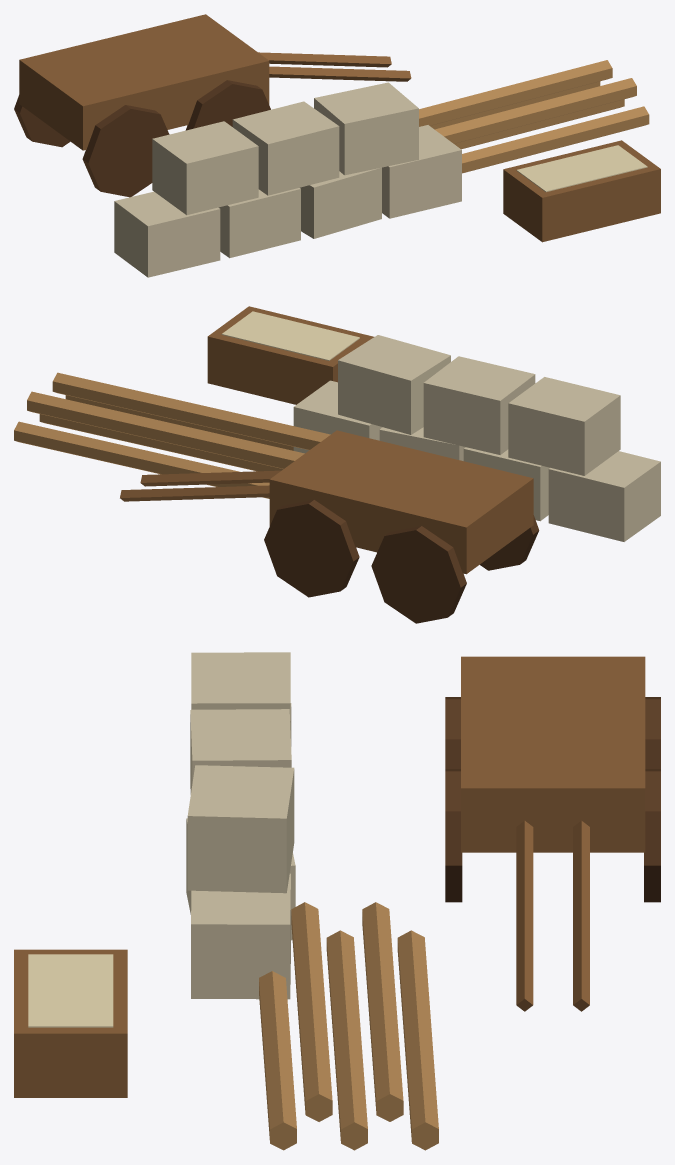
File: castle_building_site.glb
3 renders of one model, top to bottom at view 1: azimuth 30°, elevation 25°; view 2: azimuth 150°, elevation 25°; view 3: azimuth 270°, elevation 25°, orthographic. The views are drawn at different scales.
Visible parts, largest first — view 1: castle_building_site; view 2: castle_building_site; view 3: castle_building_site.
Part boxes in pixels (<box>): castle_building_site: <box>14,14,660,277</box>; castle_building_site: <box>14,306,660,623</box>; castle_building_site: <box>14,652,660,1150</box>.
Size of the model in its own units: 6.23 by 1.19 by 4.56.
